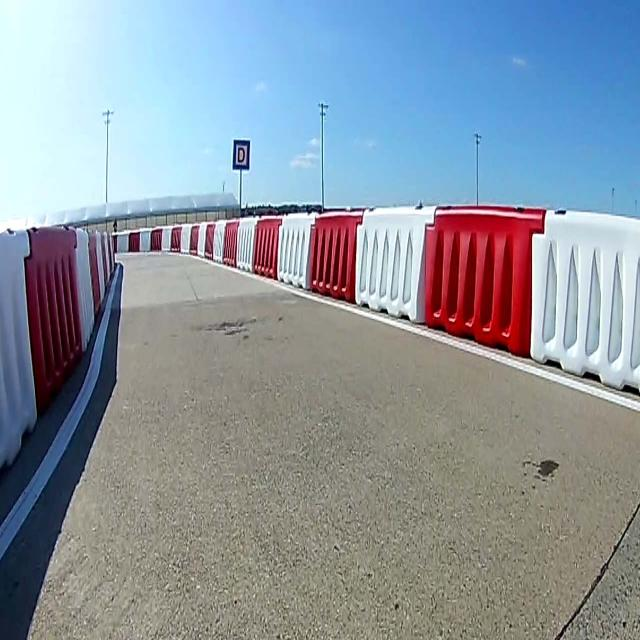durak: (232, 138, 250, 170)
